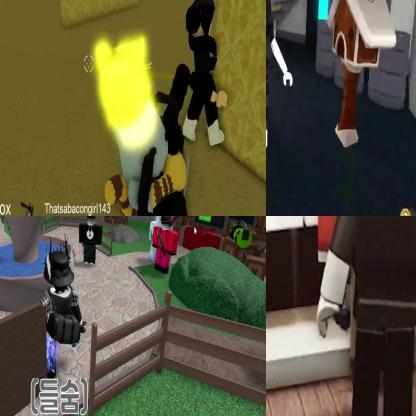Roblox-Avatar: (317, 217, 416, 416), (42, 232, 89, 380), (184, 1, 230, 147), (267, 1, 294, 150), (153, 217, 182, 276), (79, 217, 105, 266)
